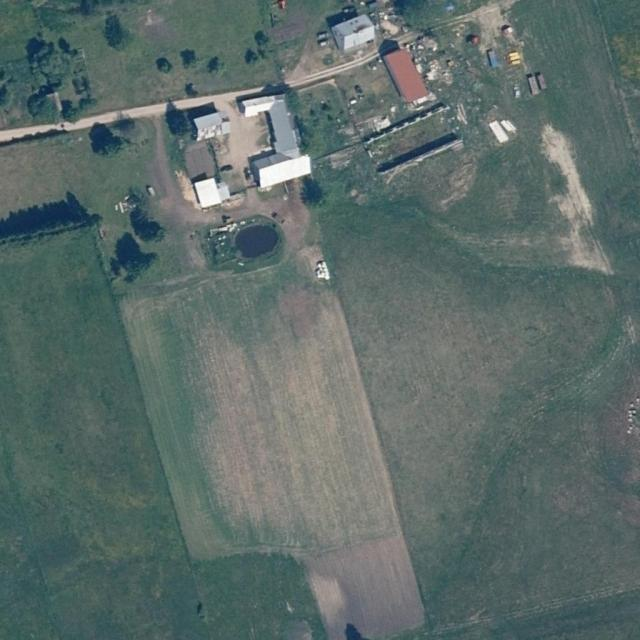agricultural_land: (317, 134, 640, 638)
building: (228, 79, 315, 192), (381, 45, 430, 106), (328, 10, 380, 55)
